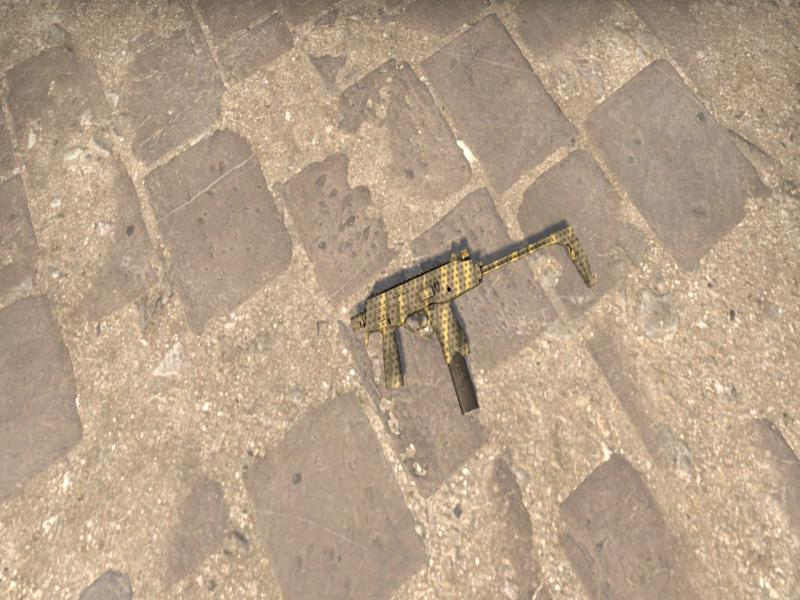MP9: (351, 225, 597, 415)
